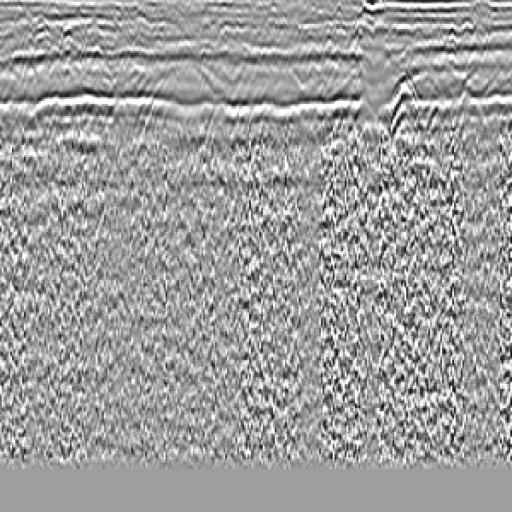metalic: (330, 62, 461, 252)
